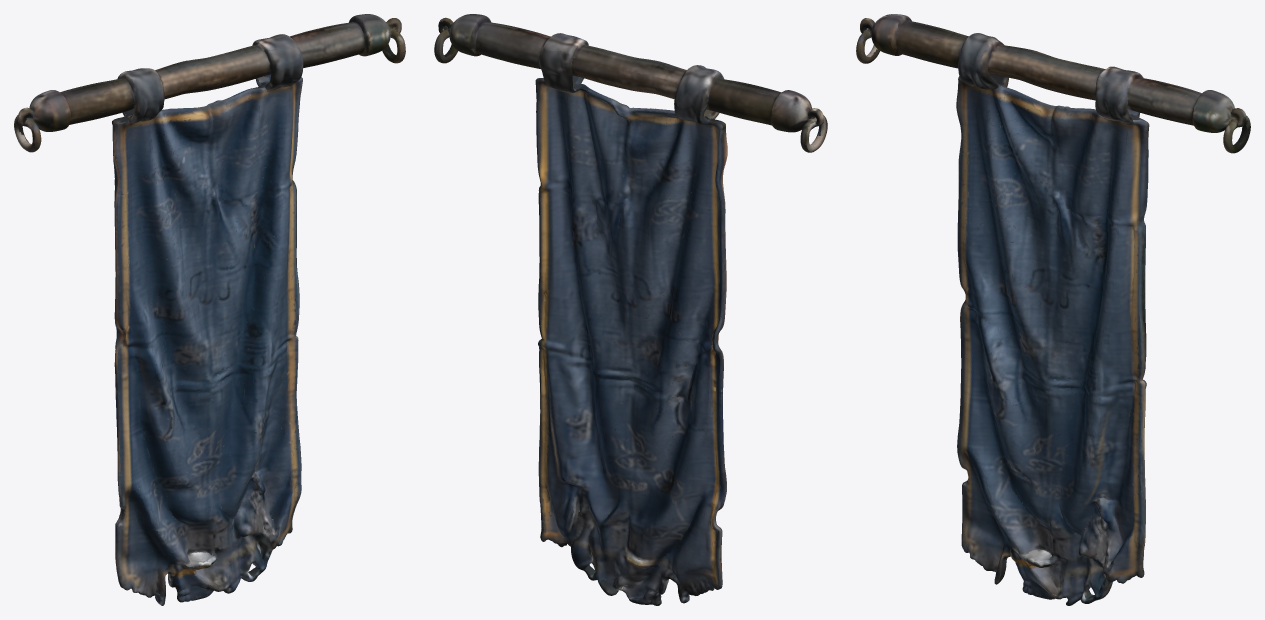
File: S1-07_banner_A.glb
3 renders of one model, left to right at view 1: azimuth 30°, elevation 25°; view 2: azimuth 150°, elevation 25°; view 3: azimuth 330°, elevation 25°, orthographic.
Visible parts, largest first — view 1: geometry_0; view 2: geometry_0; view 3: geometry_0.
Part boxes in pixels (x1,y1,x2,y2): geometry_0: (14,14,405,605); geometry_0: (434,14,827,605); geometry_0: (856,14,1250,605).
Size of the model in its own units: 2.07 by 2.8 by 0.247.
1 material, 1 textured.
